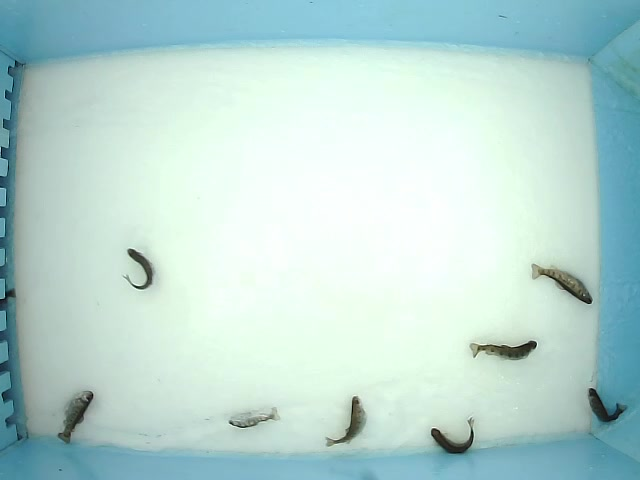fish: (529, 260, 593, 305), (322, 390, 370, 447), (55, 390, 97, 444), (426, 415, 480, 457), (467, 336, 537, 365), (226, 404, 290, 434), (121, 246, 158, 295), (585, 385, 629, 424)
